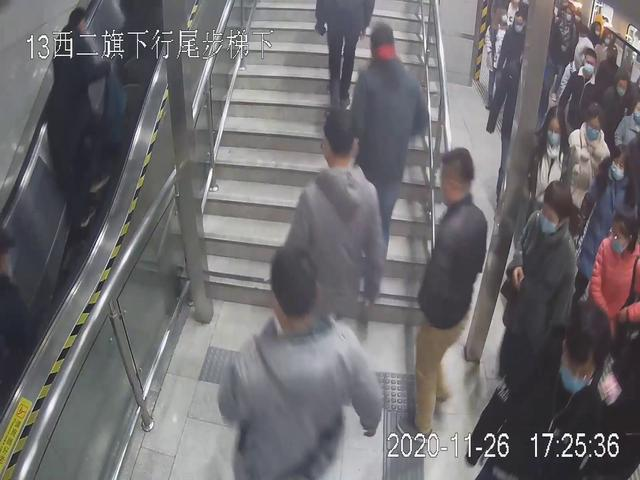person: (217, 242, 386, 480), (396, 145, 490, 439), (340, 19, 430, 276), (287, 112, 384, 344), (505, 186, 580, 393), (578, 143, 635, 320), (591, 211, 638, 367), (487, 11, 531, 136), (528, 106, 572, 217), (574, 105, 613, 213)
